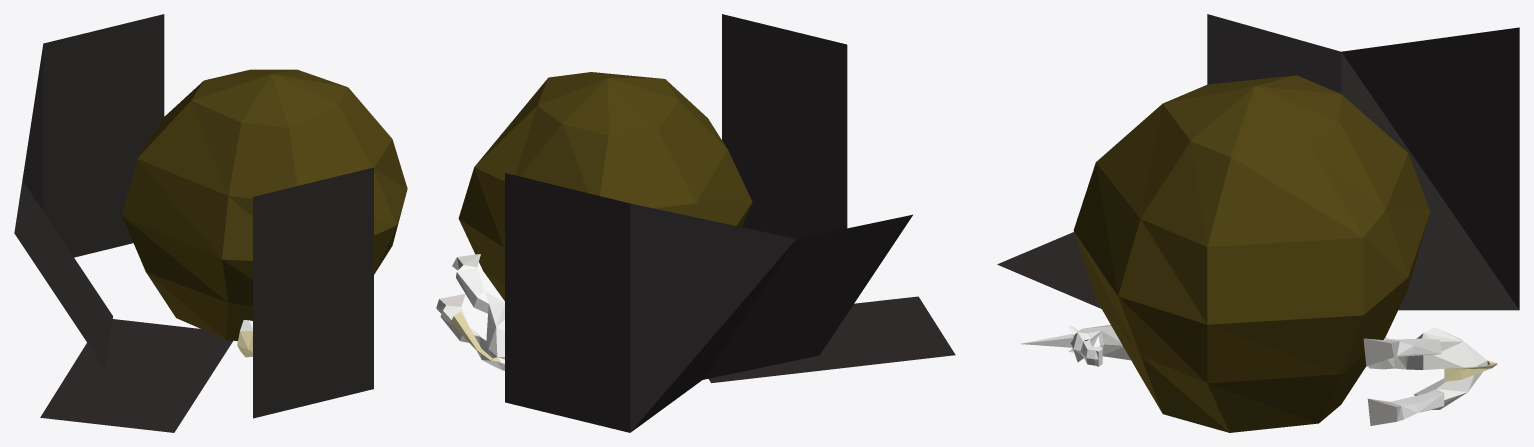
The model's file is obj_smashed_cage_0.obj.
3 views of the same model, side by side, from view 1: azimuth 30°, elevation 25°; view 2: azimuth 150°, elevation 25°; view 3: azimuth 270°, elevation 25° (orthographic). The views are drawn at different scales.
Size of the model in its own units: 3.31 by 1.93 by 3.
